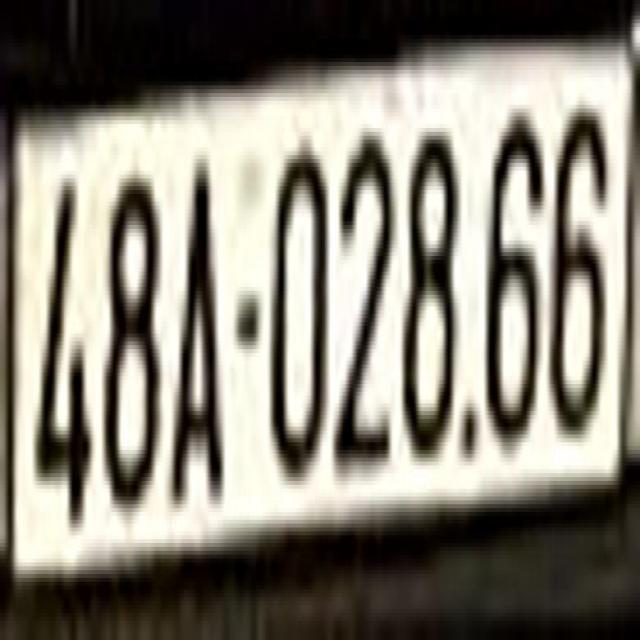0: (269, 140, 328, 484)
2: (334, 144, 395, 477)
4: (31, 163, 92, 512)
6: (486, 108, 540, 466), (552, 93, 606, 438)
8: (98, 163, 160, 512), (402, 117, 456, 470)
A: (164, 163, 225, 512)
